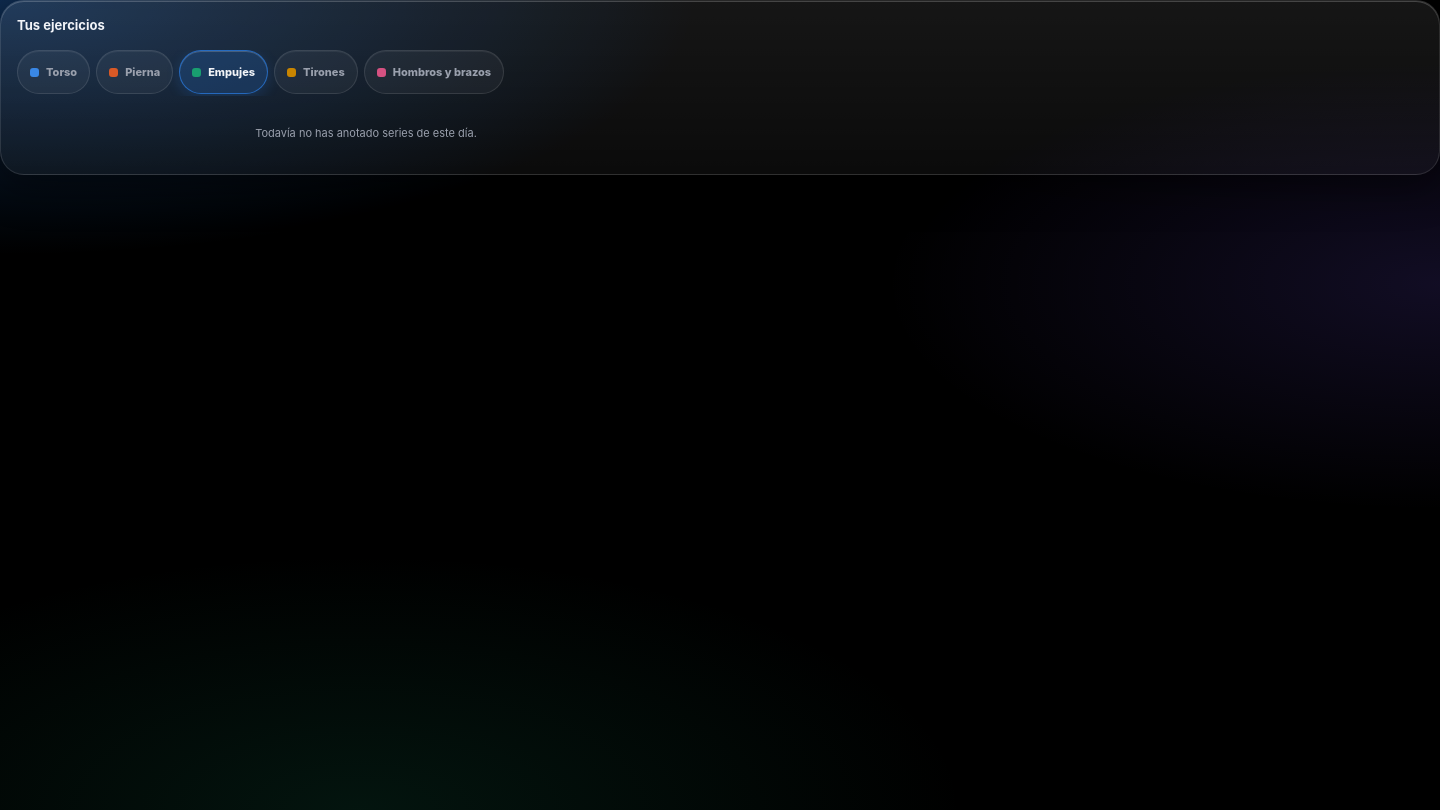
Progreso · Tus ejercicios › lista los ejercicios con registros en filas compactas, sin gráficas abiertas
Click the tab "Torso".
click(54, 72)  # box [17, 50, 90, 94]
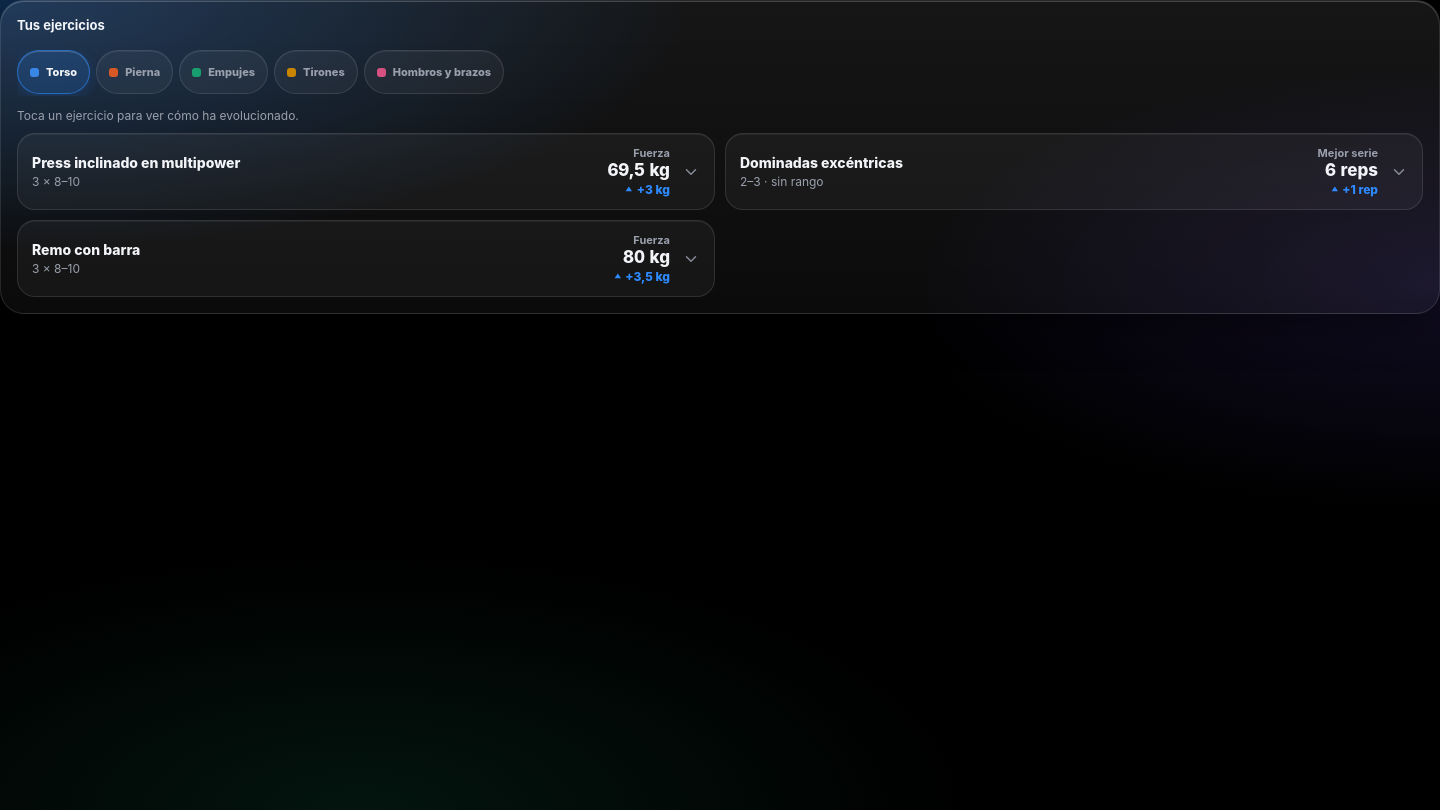
Expected: the button "Press inclinado en multipower 3 × 8–10 Fuerza 69,5 kg +3 kg" is shown, [18, 134, 714, 209]
